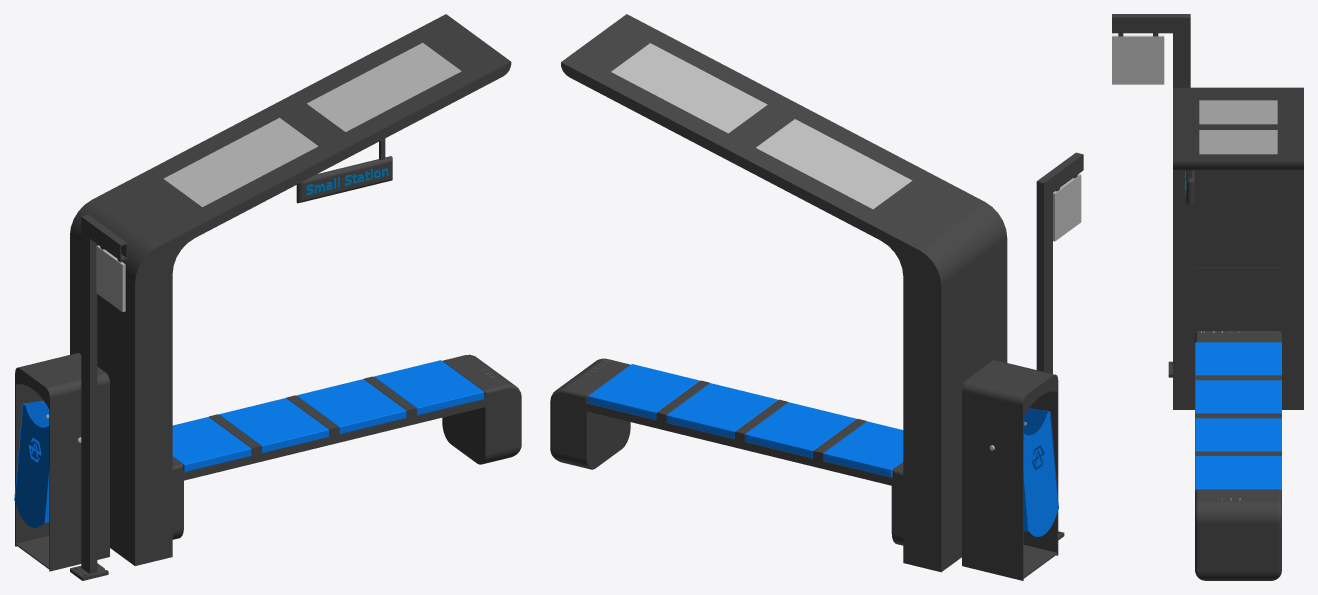
The model's file is SmallStation.glb.
3 views of the same model, side by side, from view 1: azimuth 30°, elevation 25°; view 2: azimuth 150°, elevation 25°; view 3: azimuth 270°, elevation 25° (orthographic).
Parts seen in each view (by area): view 1: Solid1 (×10); view 2: Solid1 (×10); view 3: Solid1 (×8).
Part boxes in pixels (x1=…): Solid1 (×10): x1=14, y1=14, x2=521, y2=580; Solid1 (×10): x1=550, y1=14, x2=1083, y2=580; Solid1 (×8): x1=1112, y1=14, x2=1303, y2=580.
Size of the model in its own units: 3.13 by 2.63 by 1.1.
